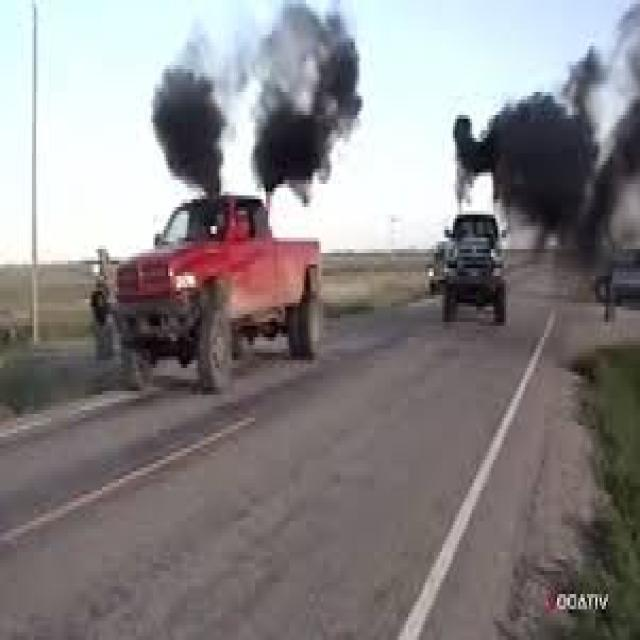smoke: (474, 111, 628, 235), (243, 25, 336, 184), (147, 68, 225, 174)
